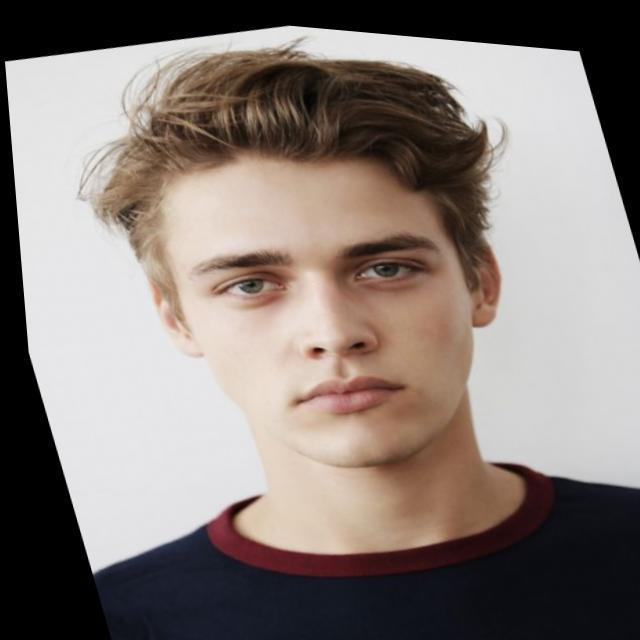Nonhelmet: (78, 38, 512, 470)
